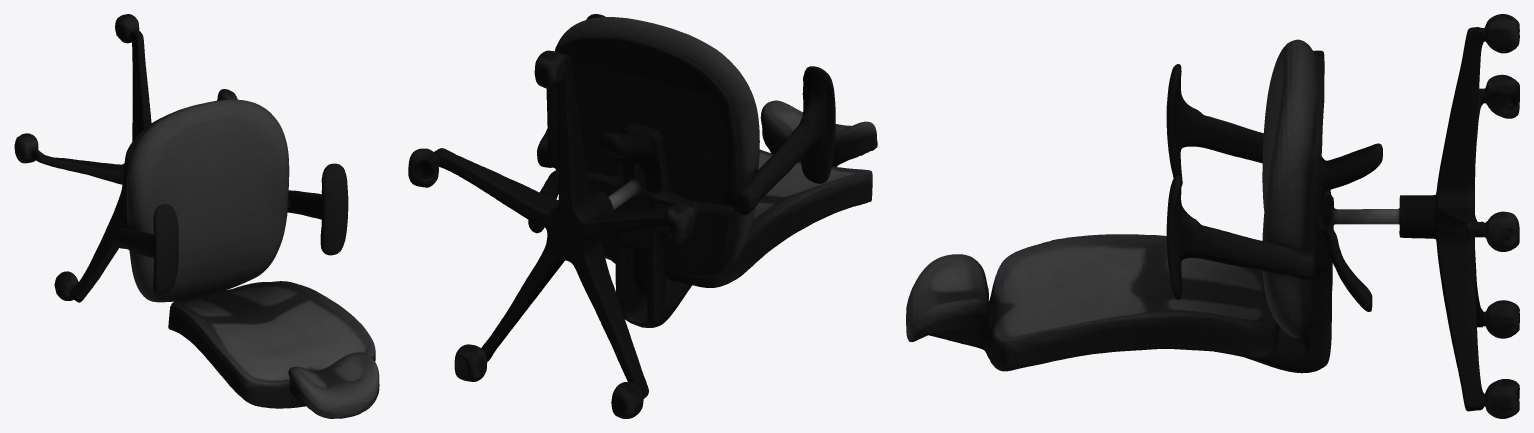
3 views of the same model, side by side, from view 1: azimuth 30°, elevation 25°; view 2: azimuth 150°, elevation 25°; view 3: azimuth 270°, elevation 25° (orthographic). The views are drawn at different scales.
Bounding box in the file's own units: 0.6926 × 0.8135 × 1.26.
Materials: 1 (1 with a texture image).
